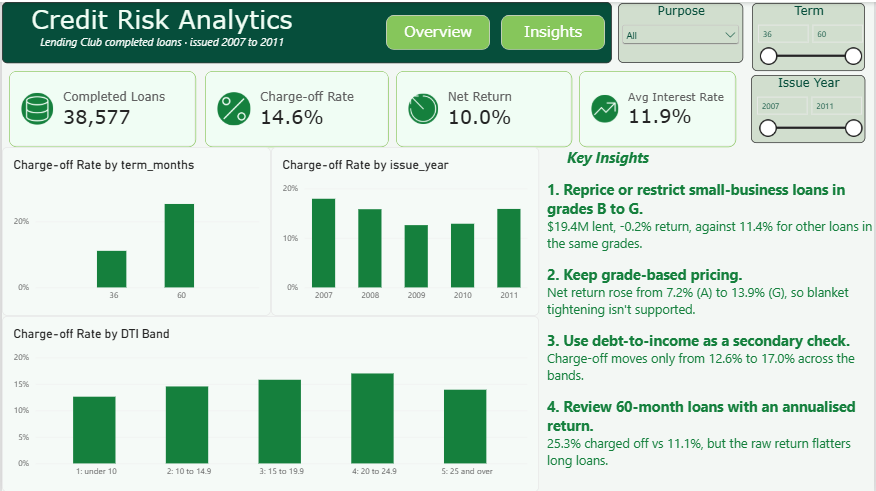

The page's visual inventory and layout, read from the dashboard file:
{"tool":"powerbi","page":{"name":"Page 2","canvas":[1280,720],"ordinal":1},"visuals":[{"type":"cardVisual","fields":{"Data":["_Measures.Loans"]},"box":[10.3,101.4,274.8,111.7],"z":0},{"type":"cardVisual","fields":{"Data":["_Measures.Charge-off Rate"]},"box":[298.3,101.4,270.4,111.7],"z":1000},{"type":"cardVisual","fields":{"Data":["_Measures.Net Return"]},"box":[578.9,101.4,258.6,111.7],"z":2000},{"type":"cardVisual","fields":{"Data":["_Measures.Avg Interest Rate"]},"box":[847.8,101.4,230.7,111.7],"z":3000},{"type":"slicer","title":"Issue Year","fields":{"Values":["loans.issue_year"]},"box":[1100.6,107.3,167.5,99.9],"z":4000},{"type":"slicer","title":"Term","fields":{"Values":["loans.term_months"]},"box":[1102,1.5,166,99.9],"z":5000},{"type":"slicer","title":"Purpose","fields":{"Values":["loans.purpose"]},"box":[905.1,1.5,183.7,88.2],"z":6000},{"type":"textbox","box":[0,0,896.3,89.6],"z":12000},{"type":"columnChart","fields":{"Category":["loans.term_months"],"Y":["_Measures.Charge-off Rate"]},"box":[0,213.1,395.3,248.3],"z":12001},{"type":"columnChart","fields":{"Category":["loans.DTI Band"],"Y":["_Measures.Charge-off Rate"]},"box":[0,461.4,789.1,258.6],"z":12002},{"type":"columnChart","fields":{"Category":["loans.issue_year"],"Y":["_Measures.Charge-off Rate"]},"box":[395.3,213.1,393.8,248.3],"z":12003},{"type":"textbox","box":[800.8,213.1,479,506.9],"z":12004},{"type":"actionButton","box":[564.2,19.1,152.8,51.4],"z":12005},{"type":"actionButton","box":[733.2,19.1,152.8,51.4],"z":12006}]}

Visuals, with their boxes in screenshot pixels (x1, y1, x2, y2), scaled from the page's 1280x720 canvas onto the 876x491 screenshot:
cardVisual - _Measures.Loans: pyautogui.locateOnScreen(7, 69, 195, 145)
cardVisual - _Measures.Charge-off Rate: pyautogui.locateOnScreen(204, 69, 389, 145)
cardVisual - _Measures.Net Return: pyautogui.locateOnScreen(396, 69, 573, 145)
cardVisual - _Measures.Avg Interest Rate: pyautogui.locateOnScreen(580, 69, 738, 145)
"Issue Year" slicer: pyautogui.locateOnScreen(753, 73, 868, 141)
"Term" slicer: pyautogui.locateOnScreen(754, 1, 868, 69)
"Purpose" slicer: pyautogui.locateOnScreen(619, 1, 745, 61)
textbox: pyautogui.locateOnScreen(0, 0, 613, 61)
columnChart - loans.term_months x _Measures.Charge-off Rate: pyautogui.locateOnScreen(0, 145, 271, 315)
columnChart - loans.DTI Band x _Measures.Charge-off Rate: pyautogui.locateOnScreen(0, 315, 540, 490)
columnChart - loans.issue_year x _Measures.Charge-off Rate: pyautogui.locateOnScreen(271, 145, 540, 315)
textbox: pyautogui.locateOnScreen(548, 145, 875, 490)
actionButton: pyautogui.locateOnScreen(386, 13, 491, 48)
actionButton: pyautogui.locateOnScreen(502, 13, 606, 48)
